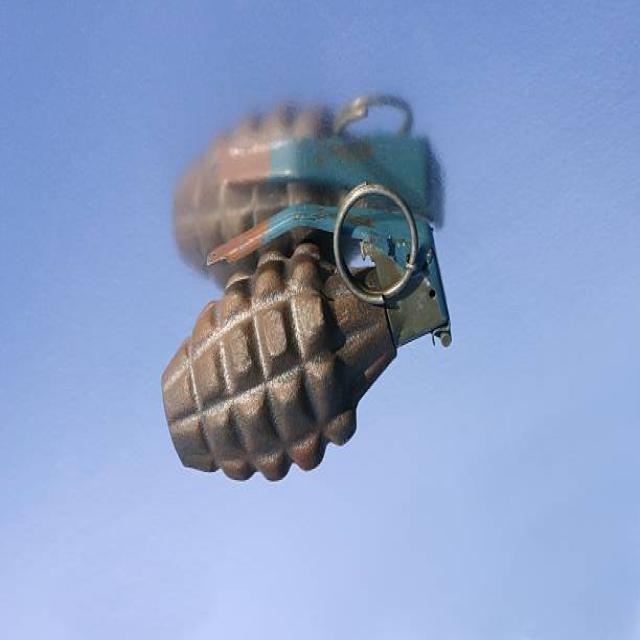grenade: (159, 174, 459, 494)
